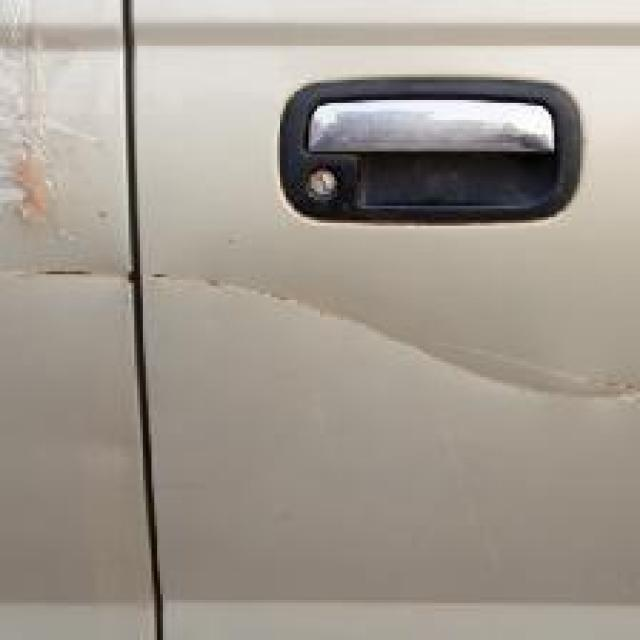damaged: (5, 257, 638, 420)
